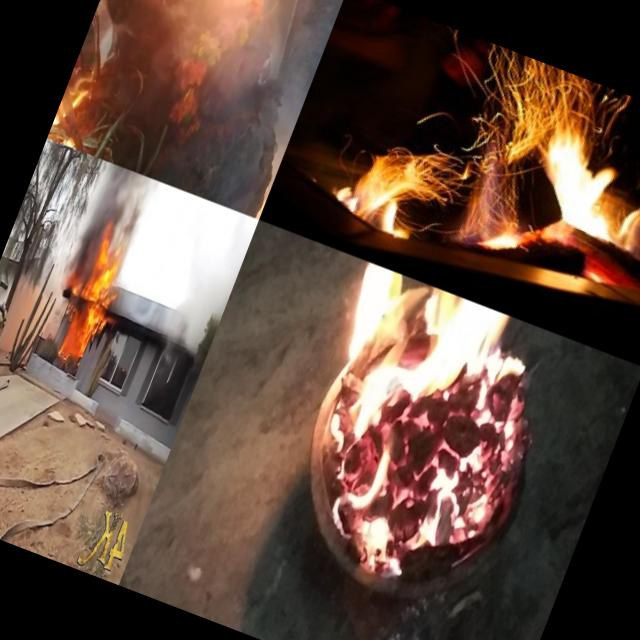fire: (255, 260, 555, 616), (321, 58, 640, 329), (121, 97, 252, 207), (63, 244, 129, 354)
smoke: (207, 0, 347, 220), (203, 68, 309, 220), (81, 169, 154, 253)
